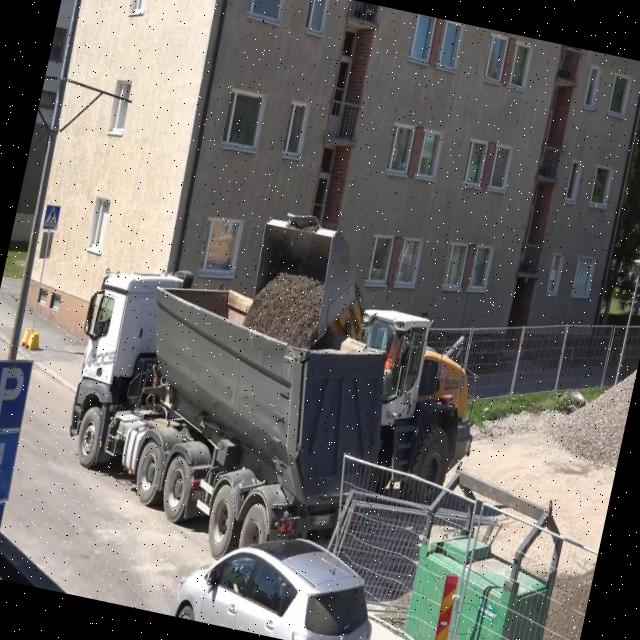Dump Truck: (39, 245, 411, 588)
Loader: (214, 200, 516, 511)
